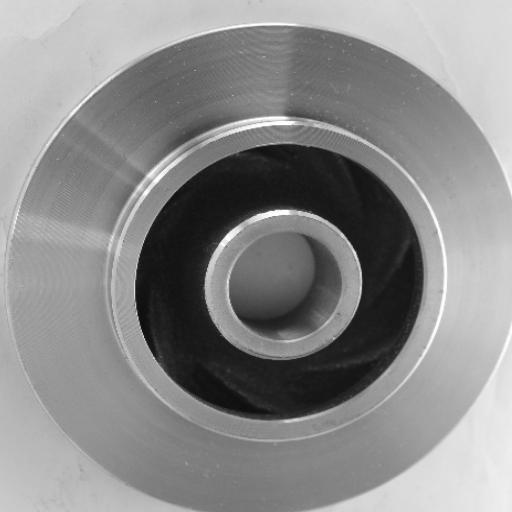polished_casting: (9, 22, 512, 512)
